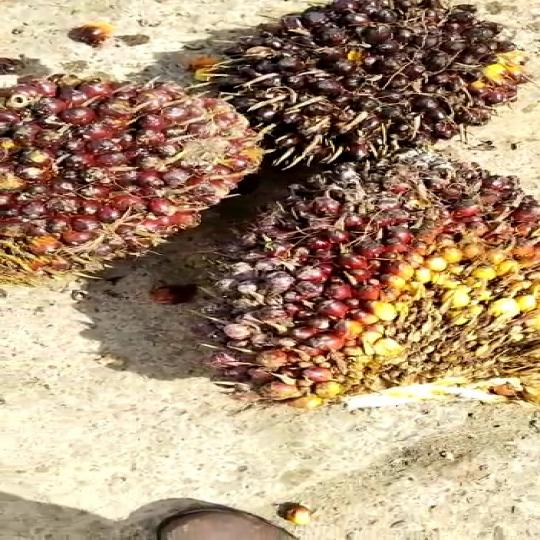kurang masak: (201, 154, 540, 422), (0, 56, 258, 290), (209, 0, 540, 170)
